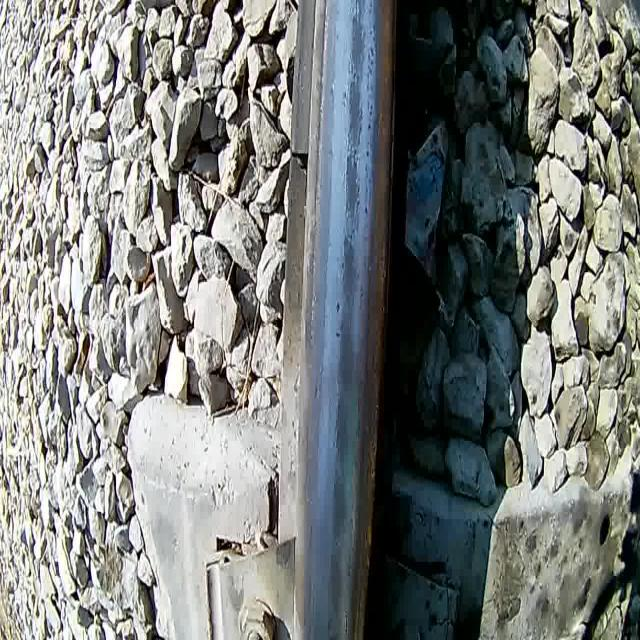Cracks: (351, 578, 365, 640), (347, 51, 358, 116), (352, 148, 362, 219), (333, 395, 343, 464), (355, 374, 364, 448), (343, 218, 360, 253), (346, 118, 352, 177), (358, 96, 365, 146), (342, 604, 349, 640), (353, 0, 361, 26)
Squats: (333, 309, 359, 395), (337, 227, 360, 311), (328, 469, 352, 546), (330, 391, 353, 469), (342, 150, 363, 228), (325, 547, 347, 617), (345, 75, 365, 150), (348, 10, 368, 84), (346, 0, 376, 23), (322, 615, 338, 640)
